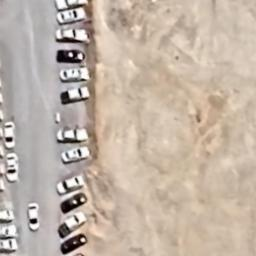SUV: (53, 0, 91, 11)
pickup: (56, 211, 91, 239), (58, 85, 93, 105), (59, 234, 89, 254), (1, 122, 19, 152), (25, 202, 42, 233), (5, 153, 19, 186), (0, 224, 20, 240), (0, 208, 16, 224), (0, 238, 18, 252)
sedan: (56, 66, 97, 84), (52, 27, 90, 46), (53, 7, 93, 24), (58, 194, 91, 214), (54, 175, 86, 195), (59, 146, 93, 164), (52, 48, 88, 64), (55, 128, 90, 144)
